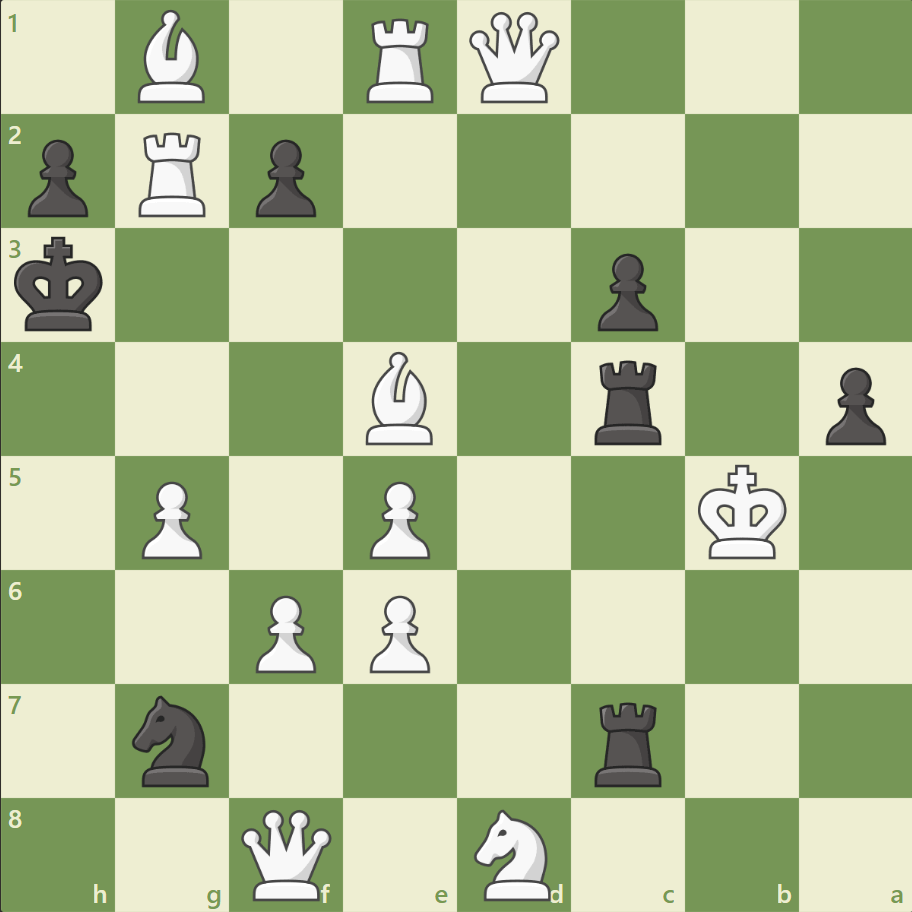B: (131, 6, 215, 109), (358, 347, 442, 449)
K: (692, 458, 792, 566)
N: (465, 802, 562, 904)
P: (247, 586, 322, 677), (133, 473, 208, 564), (361, 586, 435, 677), (361, 473, 435, 564)
Q: (237, 804, 336, 903), (464, 9, 563, 108)
R: (133, 125, 215, 222), (360, 12, 442, 109)
k: (11, 231, 111, 339)
n: (124, 688, 222, 791)
p: (247, 132, 322, 223), (20, 132, 95, 223), (815, 359, 889, 450), (588, 246, 662, 337)
r: (587, 693, 670, 790), (587, 352, 670, 449)
